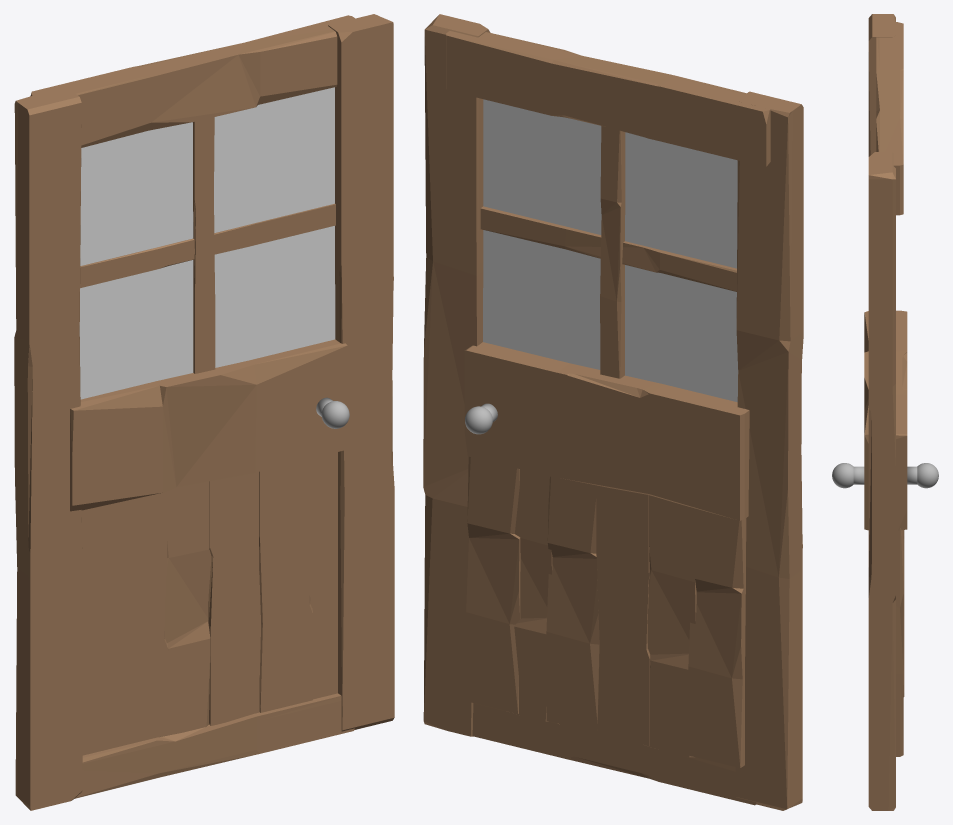
The model's file is PK_Door_Leaf.fbx.
The picture shows the model from 3 angles, left to right: view 1: azimuth 30°, elevation 25°; view 2: azimuth 150°, elevation 25°; view 3: azimuth 270°, elevation 25°; orthographic projection. The views are drawn at different scales.
Visible parts, largest first — view 1: PK_Door_Leaf; view 2: PK_Door_Leaf; view 3: PK_Door_Leaf.
Boxes of the visible parts, x1=… form: PK_Door_Leaf: x1=14, y1=14, x2=394, y2=810; PK_Door_Leaf: x1=423, y1=14, x2=803, y2=810; PK_Door_Leaf: x1=832, y1=14, x2=938, y2=810.
Size of the model in its own units: 81.6 by 150 by 22.81.
